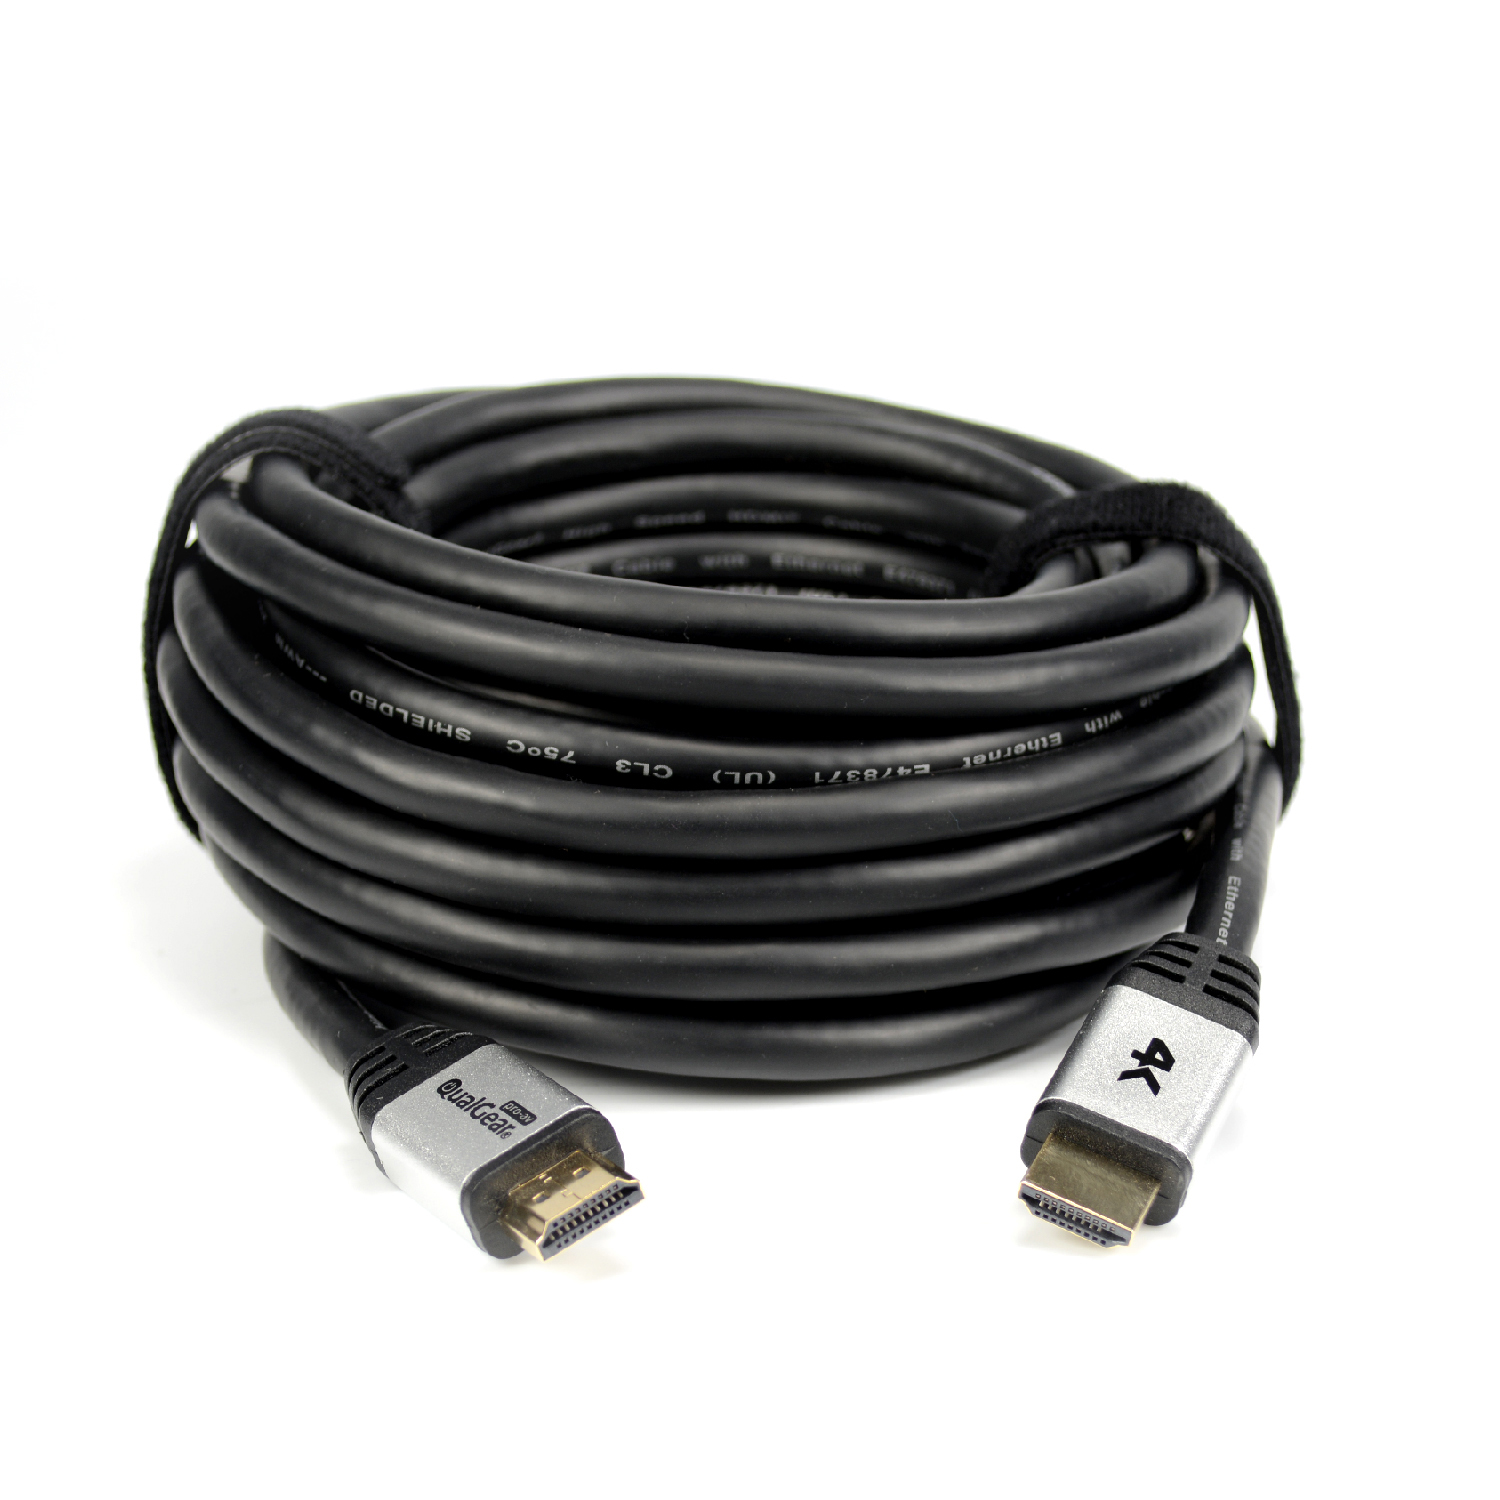Nonrec_Tangler: (92, 337, 1345, 1316)
